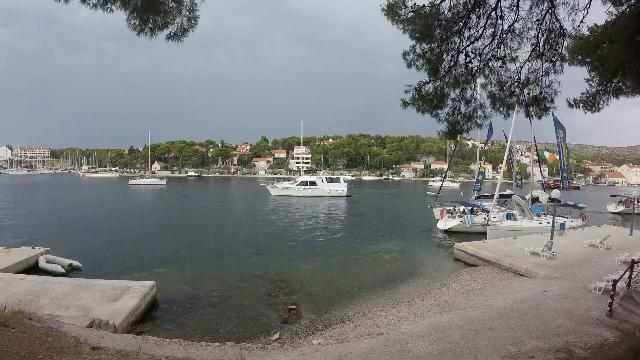Sailboat: (122, 170, 174, 190)
ferry: (256, 171, 356, 201)
